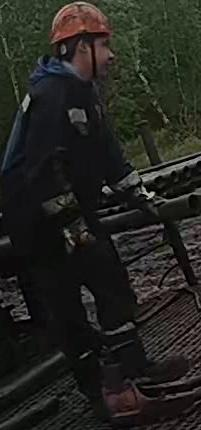gloves: (42, 195, 106, 264), (114, 170, 170, 220)
helmet: (48, 0, 113, 45)
vest: (0, 64, 125, 262)
